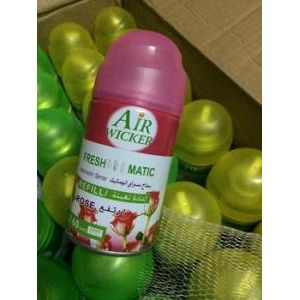Aerosol_cans: (61, 26, 190, 259)
